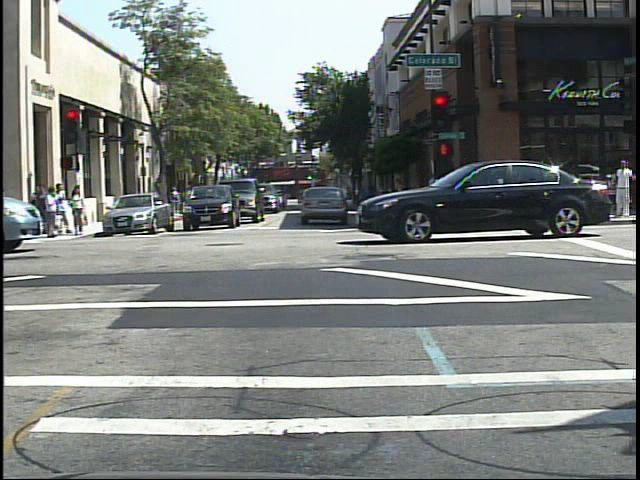person: (611, 157, 637, 222), (167, 182, 186, 222)
